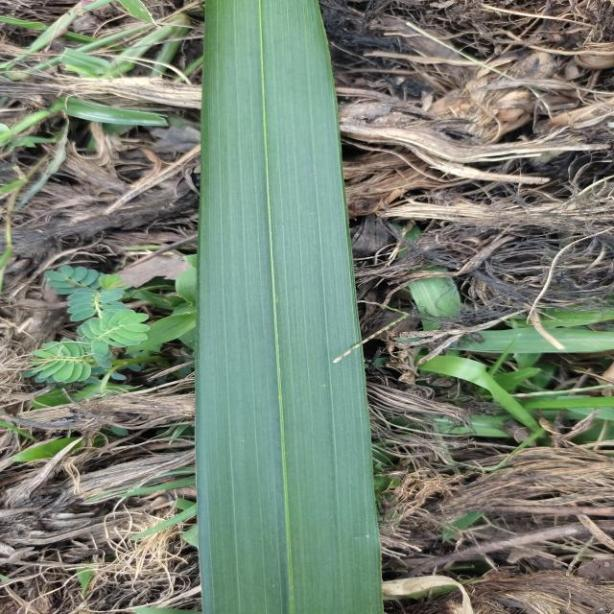Healthy: (198, 0, 385, 614)
